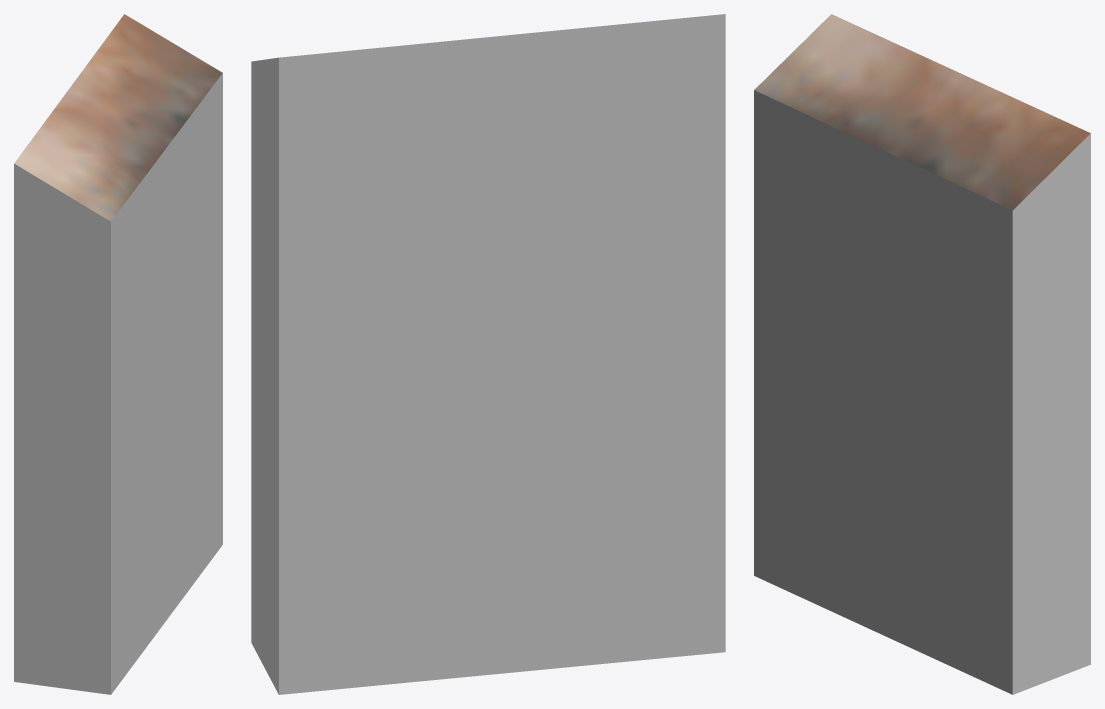
The model's file is DEBW_0010007THXU.gltf.
3 views of the same model, side by side, from view 1: azimuth 30°, elevation 25°; view 2: azimuth 150°, elevation 25°; view 3: azimuth 270°, elevation 25° (orthographic). The views are drawn at different scales.
Parts seen in each view (by area): view 1: Z_UP; view 2: Z_UP; view 3: Z_UP.
Boxes of the visible parts, x1=… form: Z_UP: x1=14, y1=14, x2=222, y2=694; Z_UP: x1=251, y1=14, x2=725, y2=694; Z_UP: x1=754, y1=14, x2=1090, y2=694.
Size of the model in its own units: 5.01 by 8.35 by 4.79.
2 materials, 1 textured.
